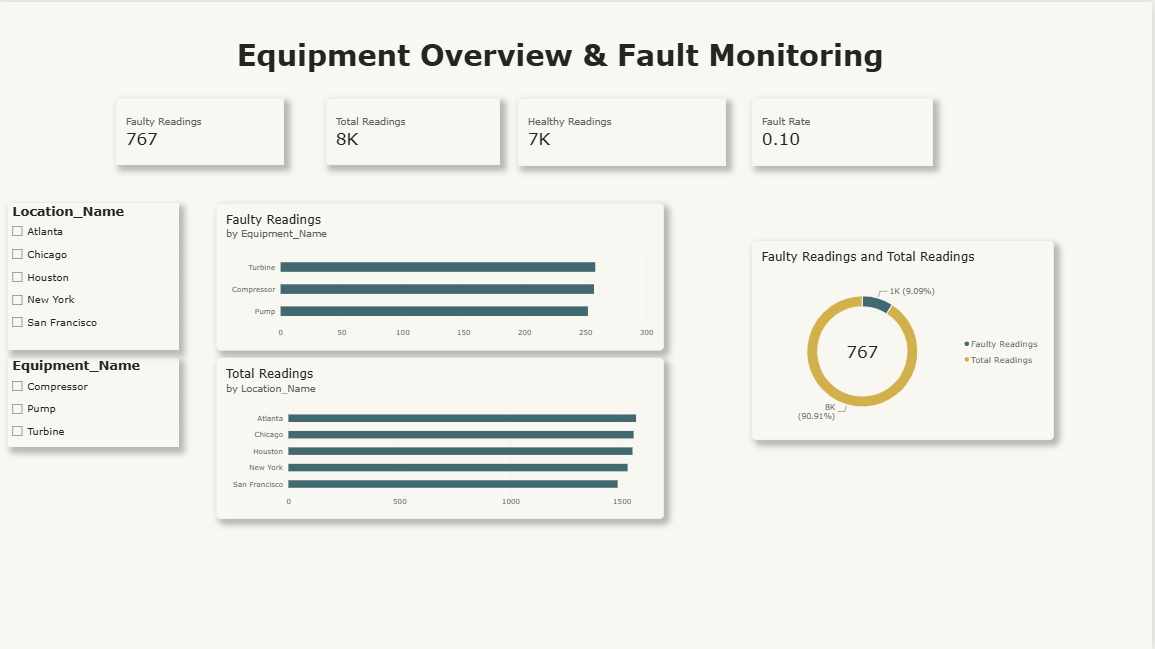

Layout of this report page (visuals, bound fields, positions):
{"tool":"powerbi","page":{"name":"Equipment Health Overview","canvas":[1920,1080],"ordinal":0},"visuals":[{"type":"cardVisual","fields":{"Data":["_Measures.Faulty Readings"]},"box":[192.5,160,281.5,112.1],"z":0},{"type":"cardVisual","fields":{"Data":["_Measures.Total Readings"]},"box":[542.5,160,291.1,112.1],"z":1},{"type":"cardVisual","fields":{"Data":["_Measures.Healthy Readings"]},"box":[862.5,160,347.5,112.5],"z":2},{"type":"cardVisual","fields":{"Data":["_Measures.Fault Rate"]},"box":[1252.5,160,302.5,112.5],"z":3},{"type":"barChart","fields":{"Category":["Dim_Equipment.Equipment_Name"],"Y":["_Measures.Faulty Readings"]},"box":[360,335,746.8,245.7],"z":4},{"type":"barChart","fields":{"Category":["Dim_Location.Location_Name"],"Y":["_Measures.Total Readings"]},"box":[360,592.5,746.8,269.6],"z":5},{"type":"slicer","fields":{"Values":["Dim_Equipment.Equipment_Name"]},"box":[12.5,592.5,285,150],"z":6},{"type":"slicer","fields":{"Values":["Dim_Location.Location_Name"]},"box":[12.5,335,285,245],"z":7},{"type":"donutChart","fields":{"Y":["_Measures.Faulty Readings","_Measures.Total Readings"]},"box":[1252.5,397.5,504,332.5],"z":8},{"type":"textbox","box":[12.5,0,1645,160],"z":9}]}

Visuals, with their boxes in screenshot pixels (x1, y1, x2, y2), scaled from the page's 1920x1080 canvas onto the 1155x649 screenshot:
cardVisual - _Measures.Faulty Readings: pyautogui.locateOnScreen(116, 96, 285, 164)
cardVisual - _Measures.Total Readings: pyautogui.locateOnScreen(326, 96, 501, 164)
cardVisual - _Measures.Healthy Readings: pyautogui.locateOnScreen(519, 96, 728, 164)
cardVisual - _Measures.Fault Rate: pyautogui.locateOnScreen(753, 96, 935, 164)
barChart - Dim_Equipment.Equipment_Name x _Measures.Faulty Readings: pyautogui.locateOnScreen(217, 201, 666, 349)
barChart - Dim_Location.Location_Name x _Measures.Total Readings: pyautogui.locateOnScreen(217, 356, 666, 518)
slicer - Dim_Equipment.Equipment_Name: pyautogui.locateOnScreen(8, 356, 179, 446)
slicer - Dim_Location.Location_Name: pyautogui.locateOnScreen(8, 201, 179, 349)
donutChart - _Measures.Faulty Readings x _Measures.Total Readings: pyautogui.locateOnScreen(753, 239, 1057, 439)
textbox: pyautogui.locateOnScreen(8, 0, 997, 96)
